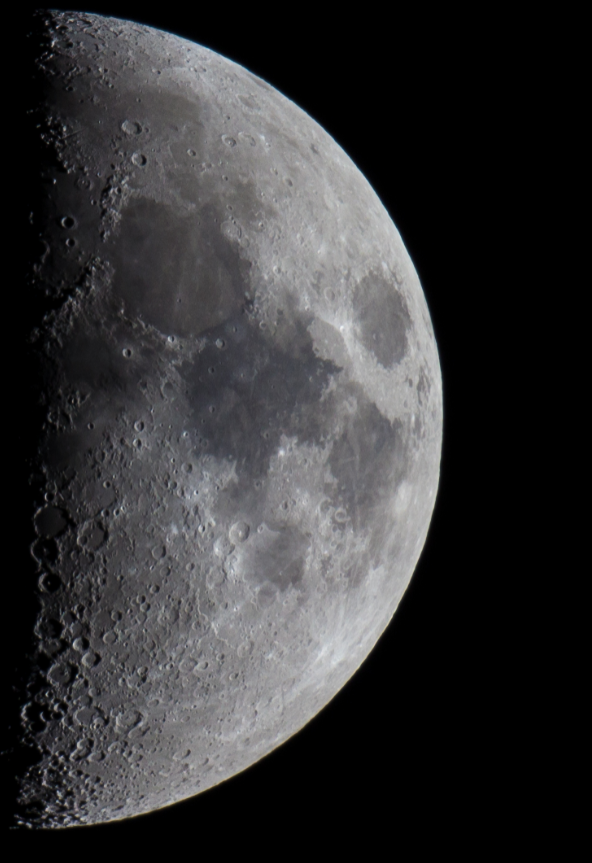crater: (71, 506, 127, 564), (23, 499, 80, 542), (106, 109, 171, 140), (159, 277, 202, 323), (218, 506, 261, 550), (27, 567, 79, 599), (145, 530, 180, 569), (309, 274, 338, 319), (44, 209, 89, 233), (112, 340, 145, 372), (124, 146, 158, 173), (280, 166, 306, 199), (196, 359, 225, 388), (214, 128, 240, 159), (76, 650, 108, 675), (95, 627, 128, 649), (131, 413, 160, 436)
